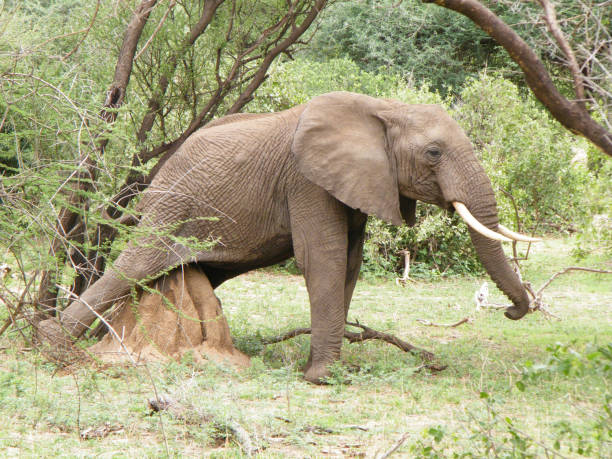africanelephant: (328, 108, 545, 274)
